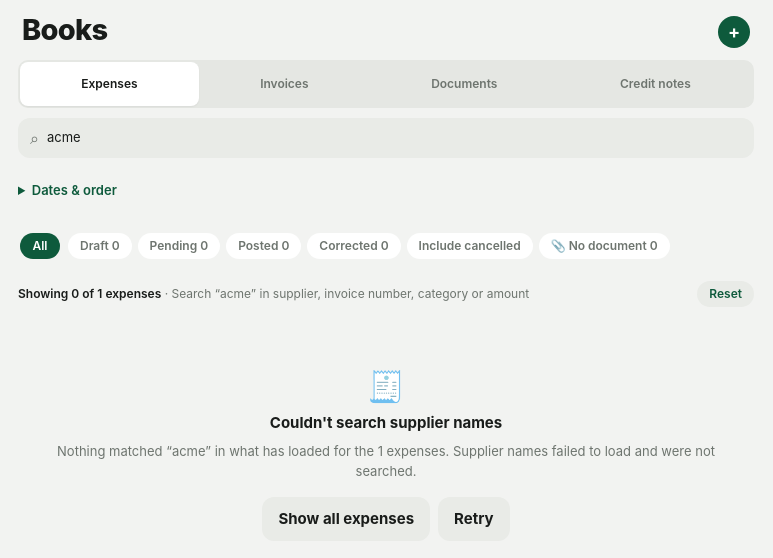
Scenario: Books empty states (issue #280) › supplier names failed: says so and Retry refetches them, after which the row matches
Check: the text "Couldn't search supplier names" is shown, box [270,412,502,434]
Click the button with aria-label "Retry loading supplier names" at [474, 519], box [438,497,510,541]
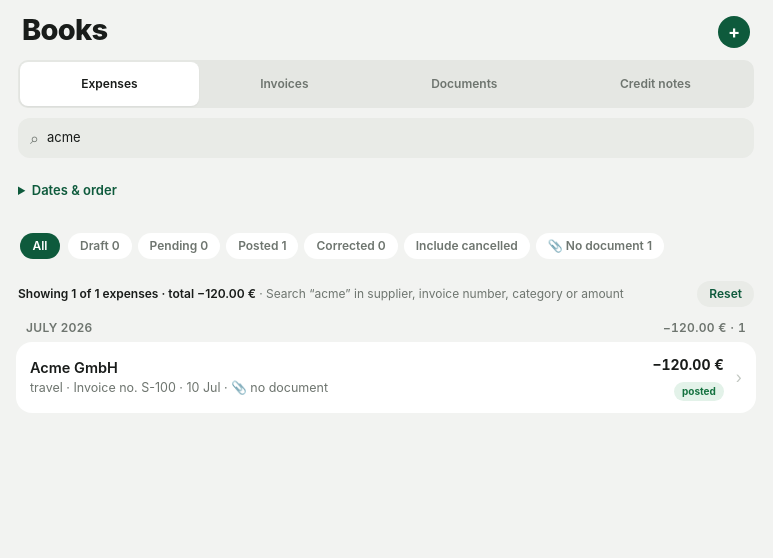
Check: the text "Acme GmbH" is shown, box [30,359,118,376]
